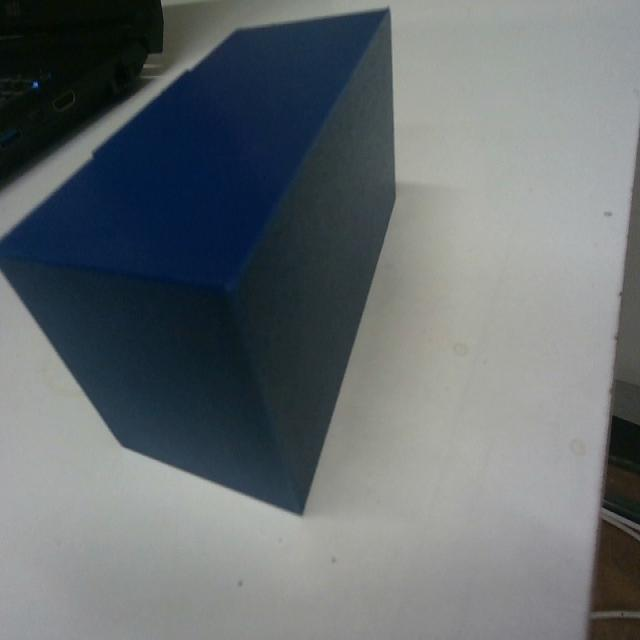Blue Cuboid: (0, 4, 399, 517)
